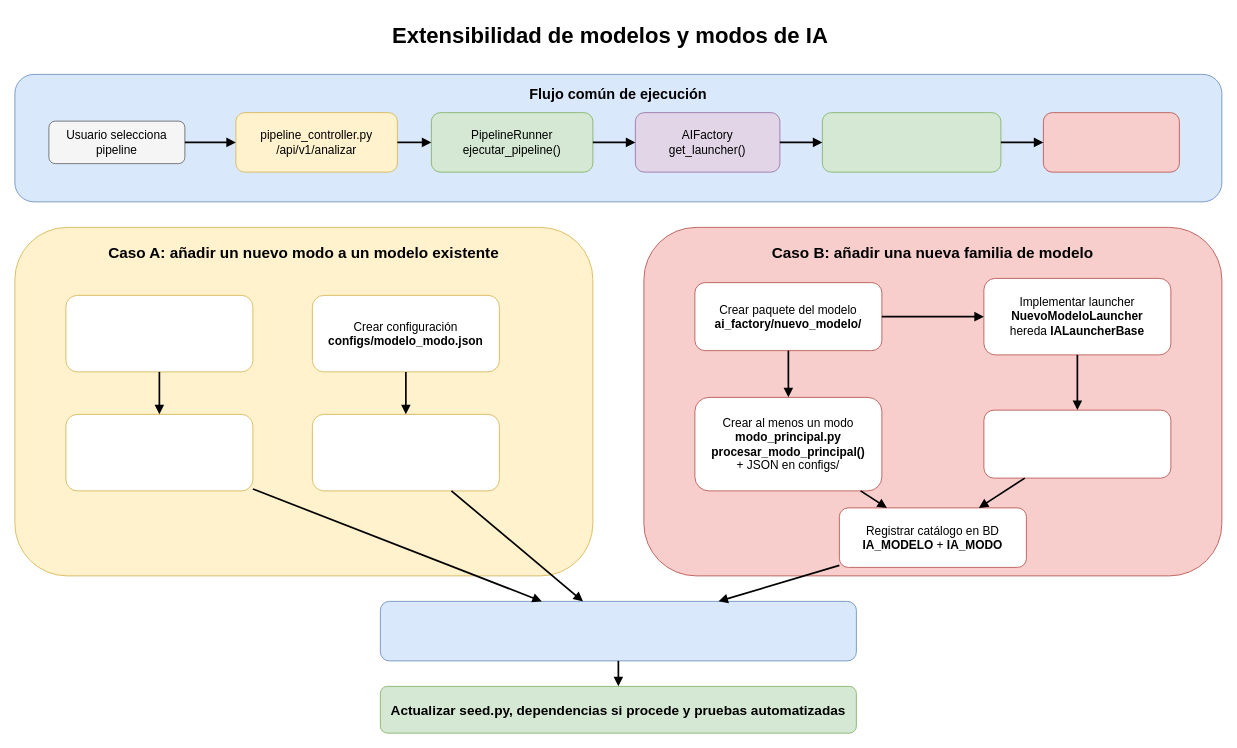
The diagram is 1237 pixels wide and 748 high, and some of its shapes have lost their labels. Here are the shapes that lost their labels. From the top down, the centre of each, then its label:
the point at 911,142: Launcher del modelo Yolo / MediaPipe / nuevo
the point at 1111,142: Función de modo procesar_*()
the point at 159,333: Crear implementación del modo nuevo_modo.py procesar_nuevo_modo()
the point at 159,452: Registrar en launcher existente _task_map o _estrategias
the point at 405,452: Registrar modo en BD IA_MODO
the point at 1077,443: Registrar en Factory AIFactory.get_launcher()
the point at 618,631: Crear o editar pipeline ejecutable PIPELINE + PIPELINE_ETAPA
